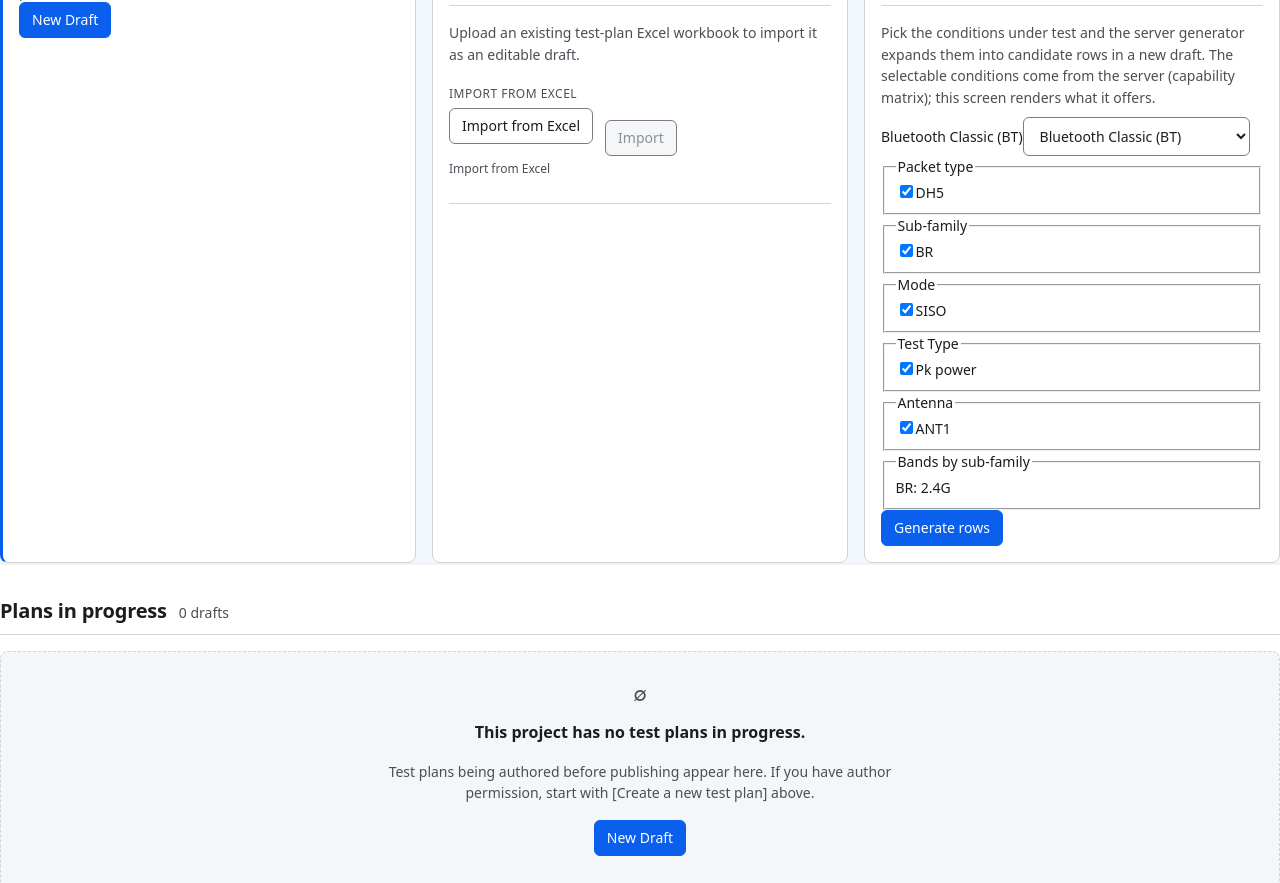
current generation API cutover › renders terminal job failures as an error state without generated rows
(page scrolled)
Check: the form with test id "test-plans-generator-form" is shown, box [881,117,1263,546]
Click the button with test id "test-plans-generator-submit" at point(942, 528), box [881,510,1003,546]
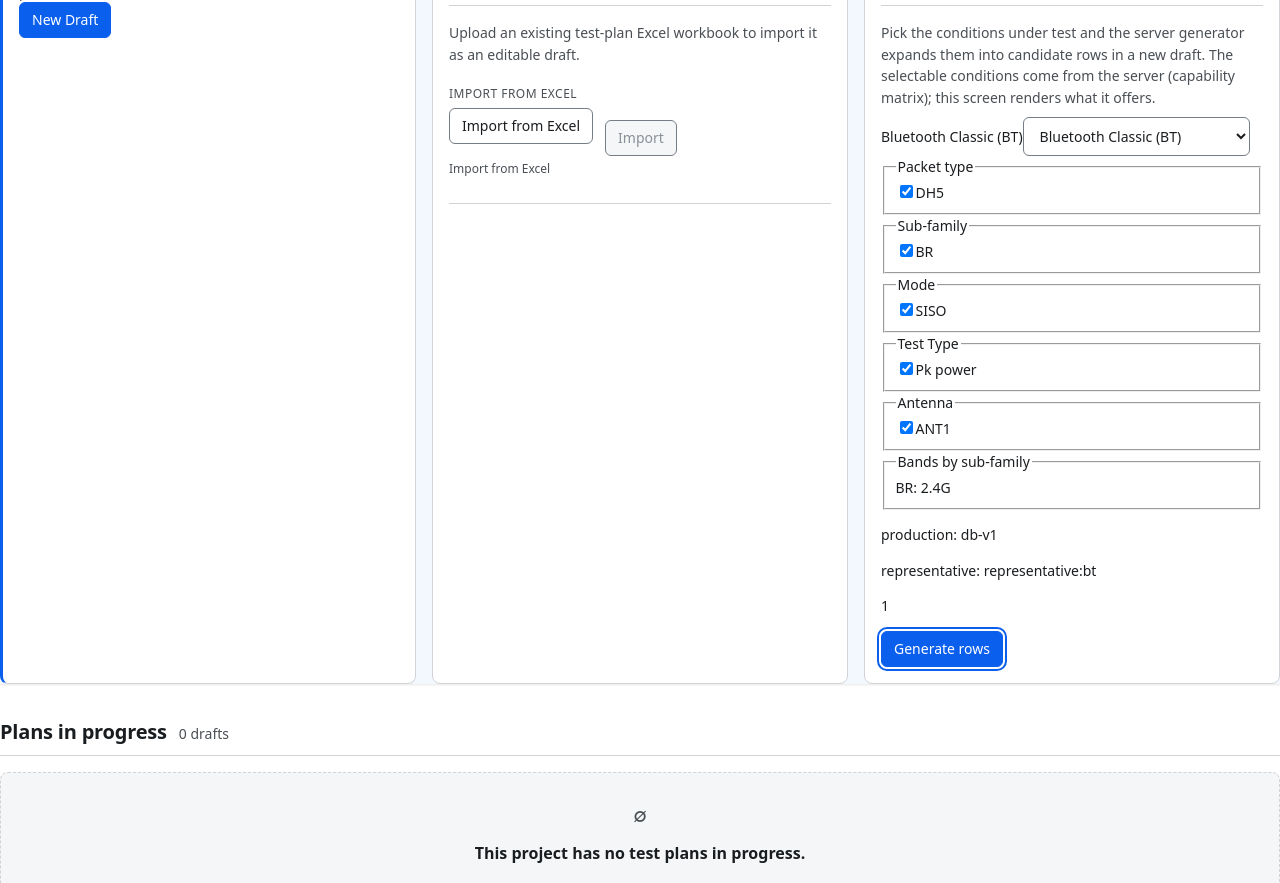
Check: the element with test id "test-plans-generator-preview" is shown, box [881,525,1096,615]
Click the button with test id "test-plans-generator-submit" at point(942, 649), box [881,631,1003,667]
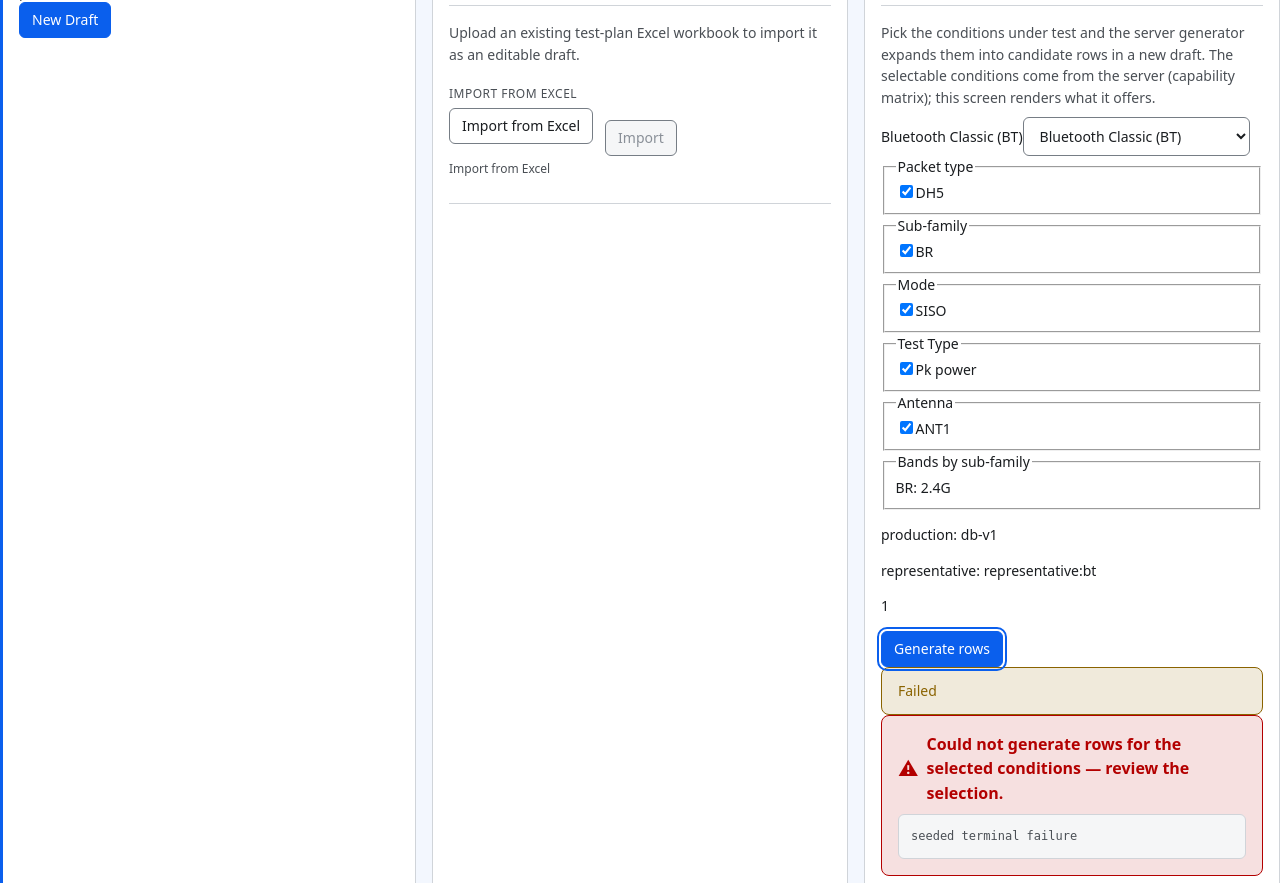
Check: the message with test id "test-plans-generator-job-status" does not show "failed", box [898,681,937,700]
Check: the message with test id "test-plans-generator-error" shows "seeded terminal failure", box [911,829,1077,843]
Check: the message with test id "test-plans-generator-job-status" reads "Failed", box [898,681,937,700]
